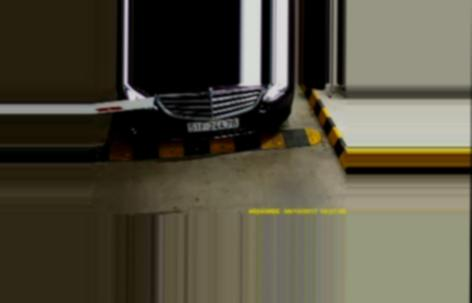License_Plate: (186, 117, 240, 132)
